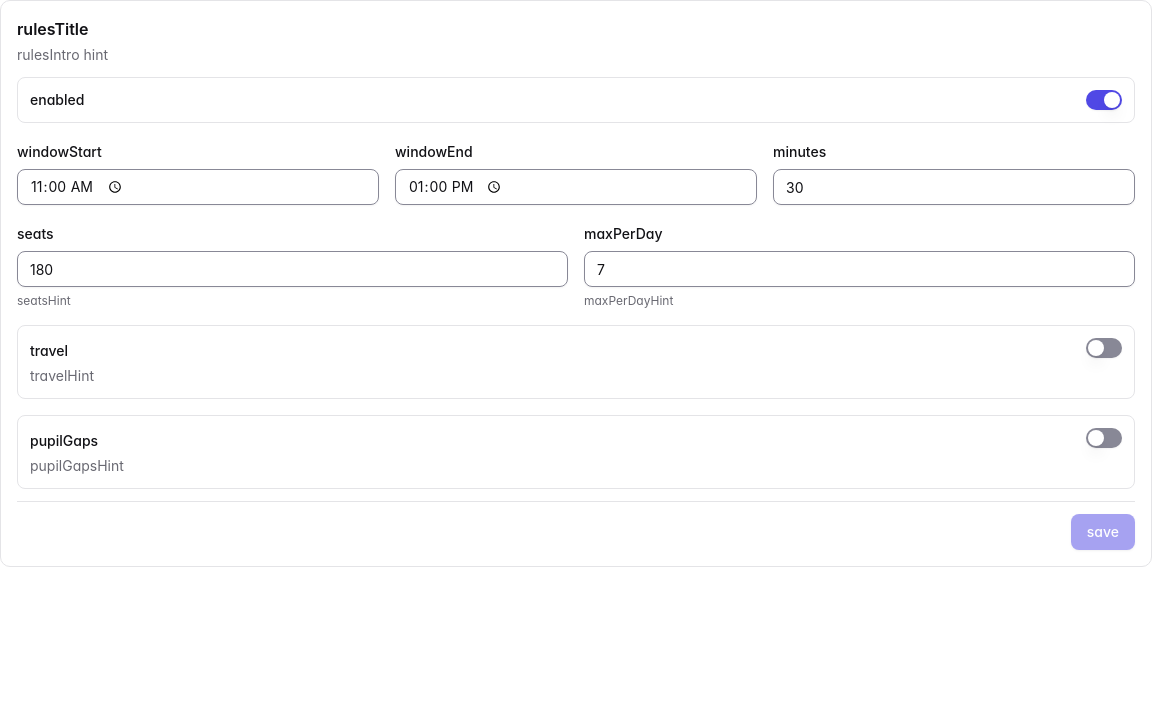
LunchSettingsCard › waits for a change before it offers to save the school's own rules
Expected: the time field labelled "windowStart" holds "11:00", [17, 169, 379, 205]
Expected: the button "save" is disabled, [1071, 514, 1135, 550]
Replace the text in the number field labelled "seats" with "200" at (292, 269), box [17, 251, 568, 287]
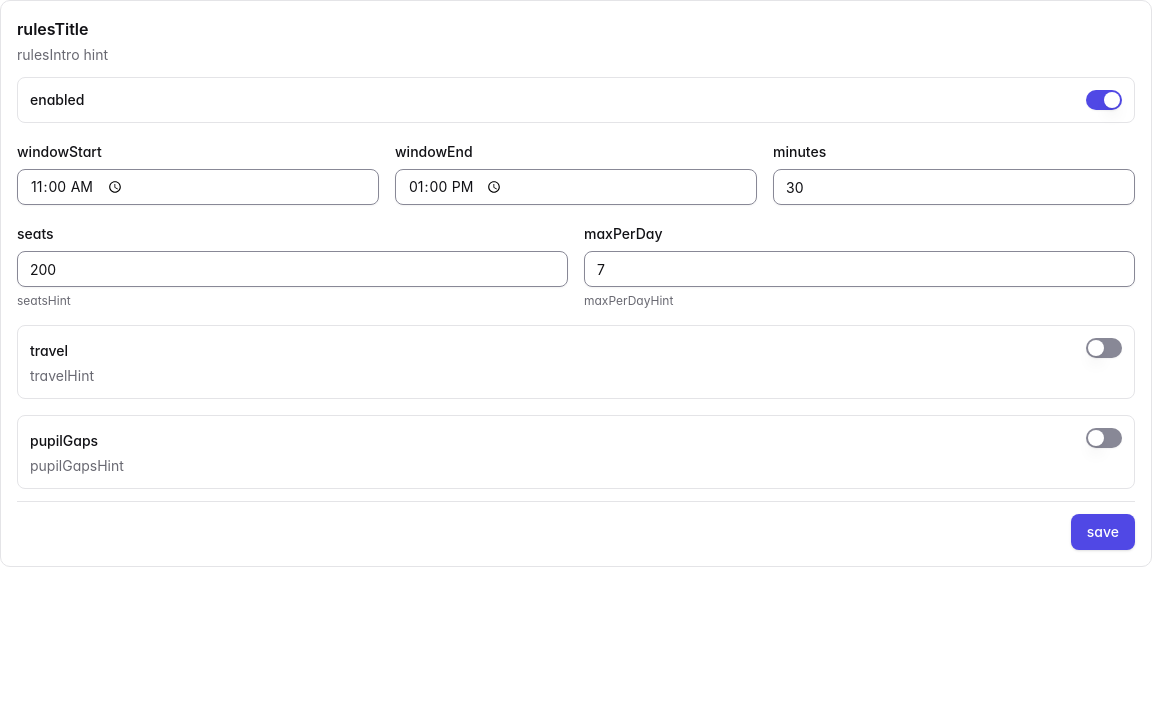
Now the button "save" is enabled, box [1071, 514, 1135, 550]
